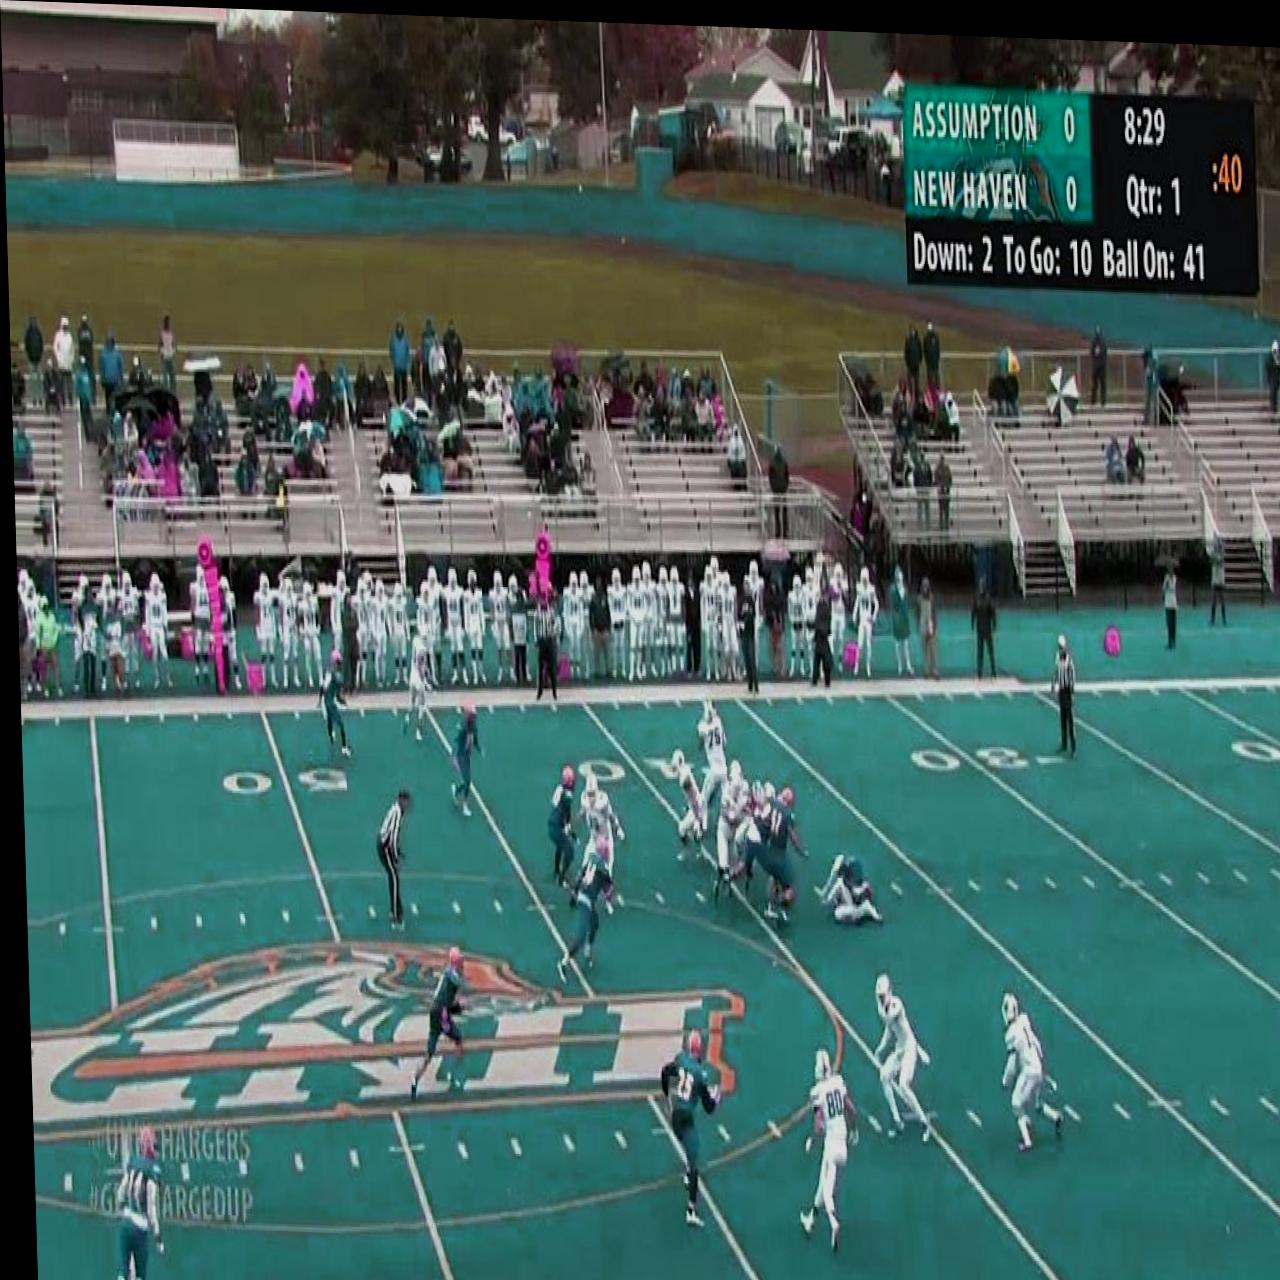30R: (905, 734, 1058, 769)
40R: (573, 749, 720, 782)
50: (217, 761, 343, 795)
